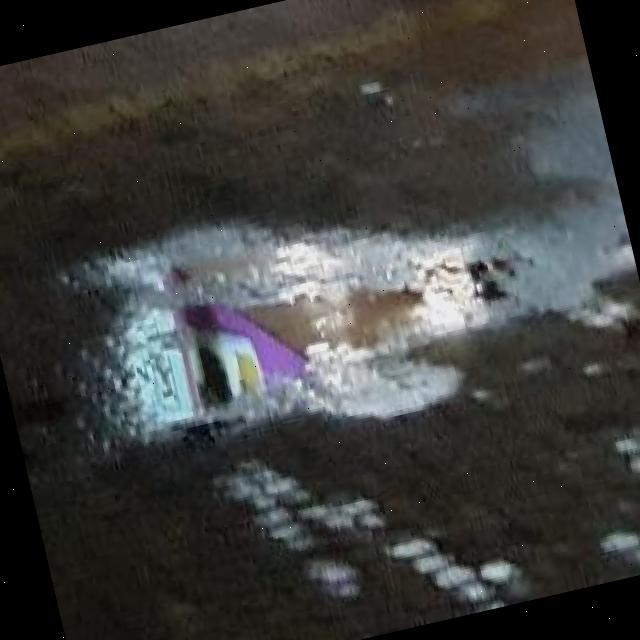stagnation: (11, 99, 640, 500)
